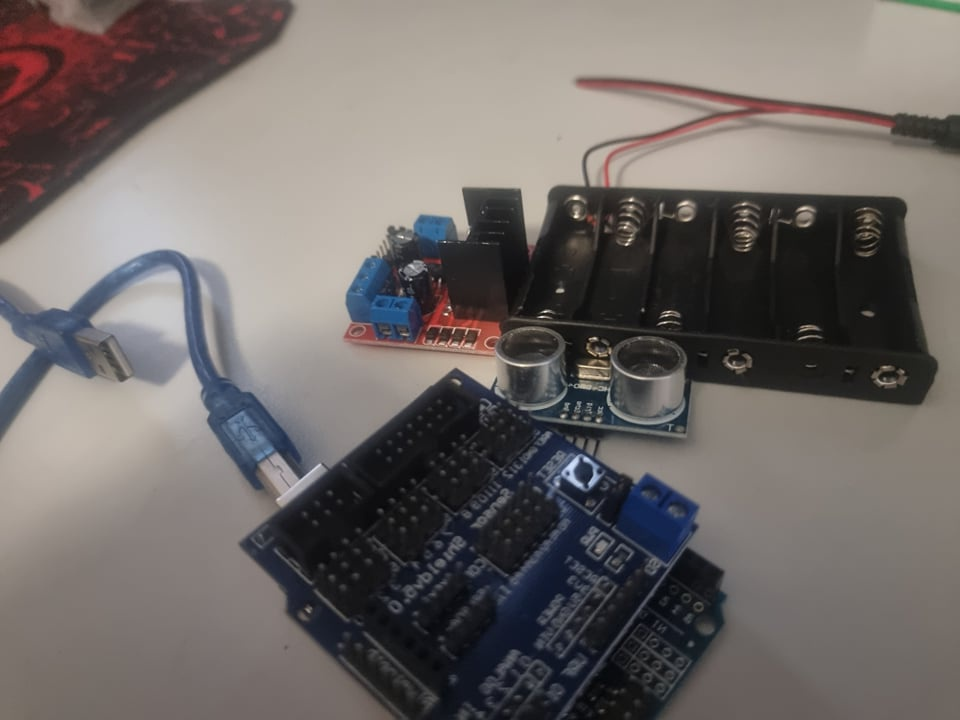5V EXPANSION: (238, 360, 693, 712)
BATTERY BOX: (509, 180, 941, 396)
MOTOR: (340, 185, 536, 356)
SENSOR: (496, 325, 687, 433)
